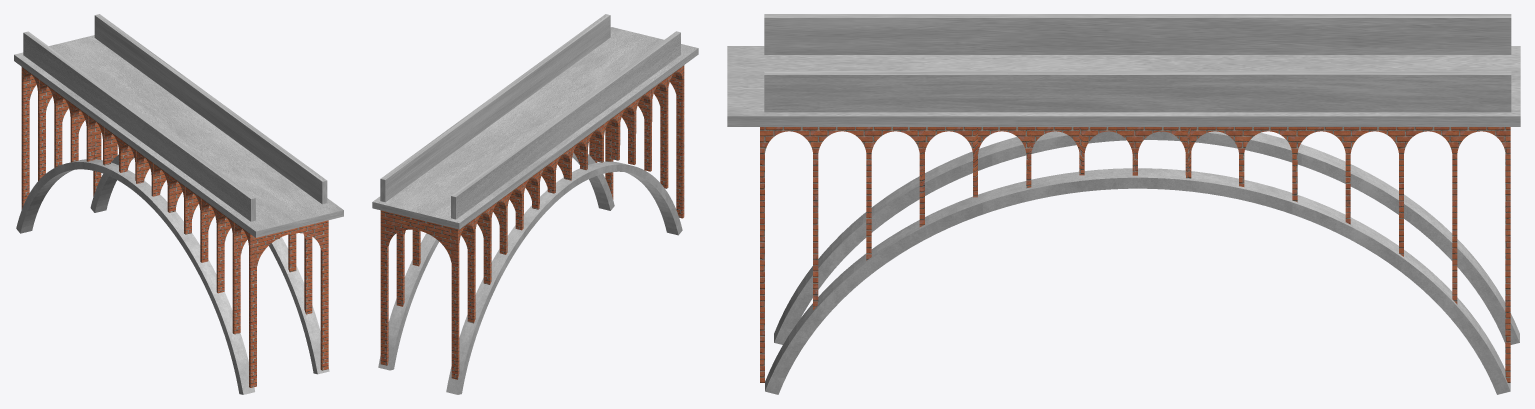
The model's file is ds_bridge.glb.
The picture shows the model from 3 angles, left to right: view 1: azimuth 30°, elevation 25°; view 2: azimuth 150°, elevation 25°; view 3: azimuth 270°, elevation 25°; orthographic projection. The views are drawn at different scales.
Visible parts, largest first — view 1: Cube; view 2: Cube; view 3: Cube.
Boxes of the visible parts, x1,y1,x2,y2 form: Cube: (14,14,343,394); Cube: (372,14,698,394); Cube: (727,14,1520,394).
Size of the model in its own units: 0.461 by 0.9952 by 2.19.
2 materials, 2 textured.
